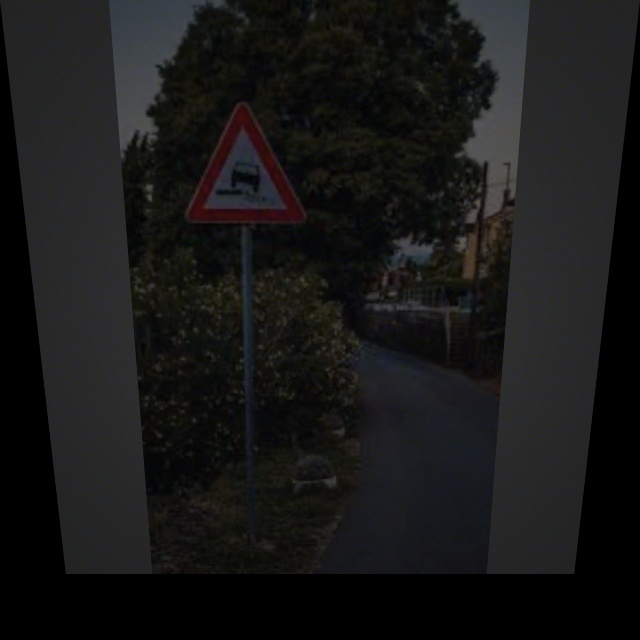Loose_Gravel: (181, 101, 304, 230)
